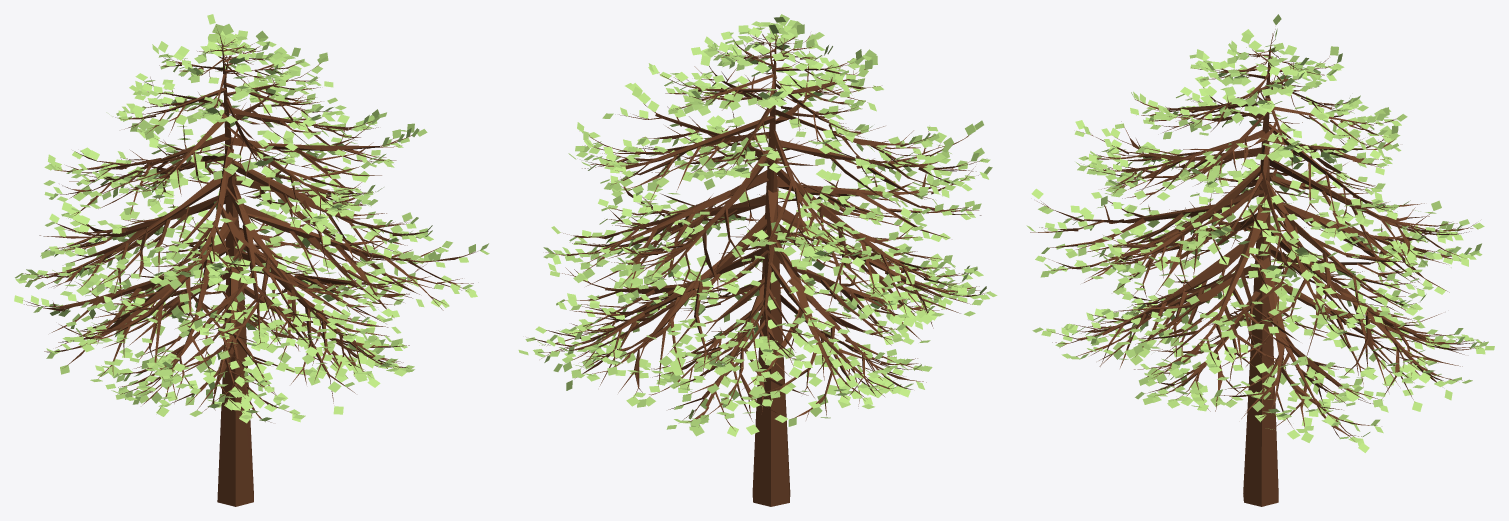
Rendered from Tree2_lod1.fbx.
3 views of the same model, side by side, from view 1: azimuth 30°, elevation 25°; view 2: azimuth 150°, elevation 25°; view 3: azimuth 270°, elevation 25° (orthographic). The views are drawn at different scales.
Parts seen in each view (by area): view 1: leaves, tree; view 2: leaves, tree; view 3: tree, leaves.
Boxes of the visible parts, x1,y1,x2,y2 form: leaves: (14,14,489,423); tree: (24,26,477,506); leaves: (518,14,997,436); tree: (530,27,987,506); tree: (1030,29,1484,506); leaves: (1026,14,1494,452).
Size of the model in its own units: 1594 by 1767 by 1582.
